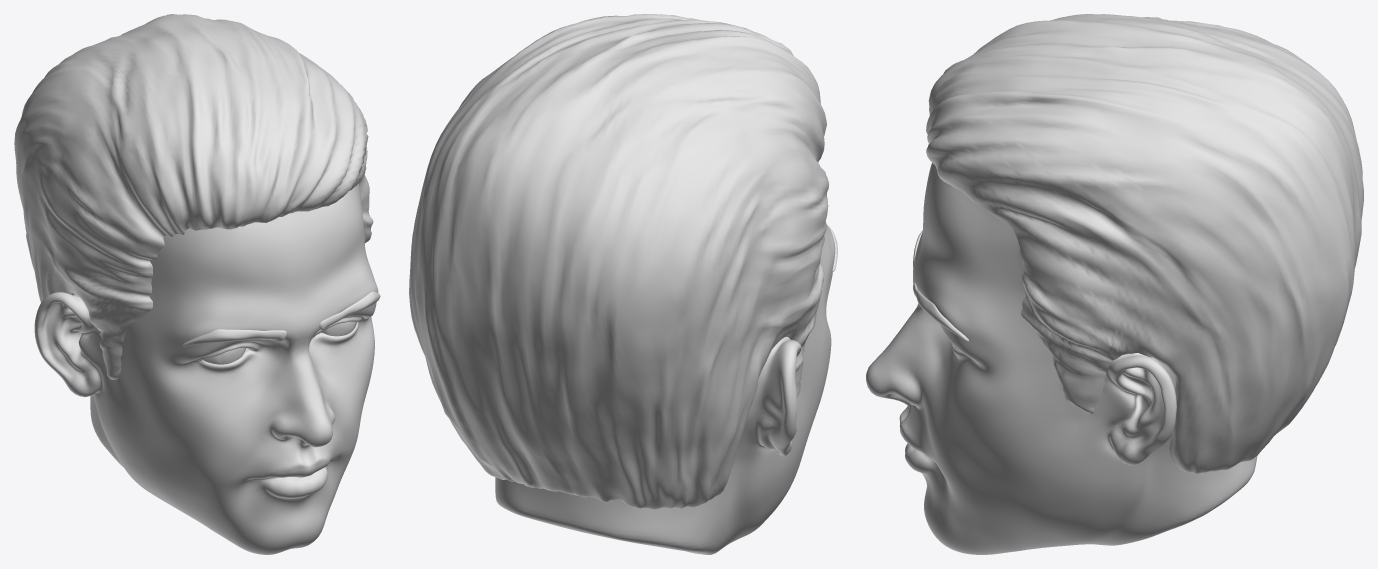
File: alfred.glb
3 views of the same model, side by side, from view 1: azimuth 30°, elevation 25°; view 2: azimuth 150°, elevation 25°; view 3: azimuth 270°, elevation 25° (orthographic). The views are drawn at different scales.
Parts seen in each view (by area): view 1: male_head_2.1; view 2: male_head_2.1; view 3: male_head_2.1.
Part boxes in pixels (left/top/right/bottom): male_head_2.1: left=14, top=14, right=380, bottom=554; male_head_2.1: left=409, top=14, right=837, bottom=554; male_head_2.1: left=866, top=14, right=1363, bottom=554.
Size of the model in its own units: 0.0144 by 0.02 by 0.0178.
1 material, 1 textured.
